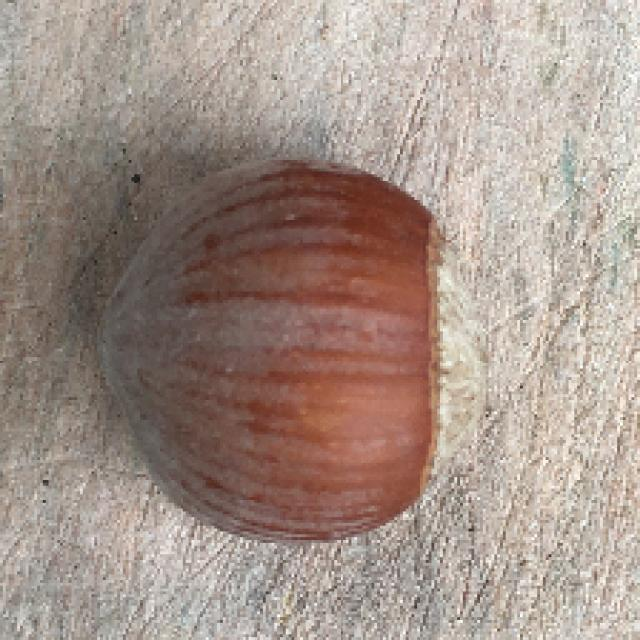qualityHazelnut: (91, 154, 475, 552)
